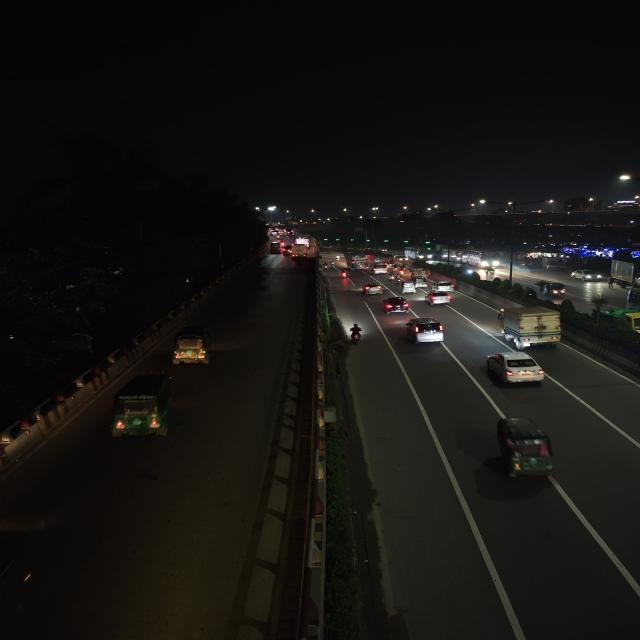bus: (463, 251, 498, 268), (348, 255, 371, 269)
car: (483, 350, 548, 390), (403, 316, 447, 348), (381, 295, 411, 315), (424, 290, 456, 308), (570, 268, 602, 284), (360, 282, 384, 296), (433, 280, 455, 292), (372, 263, 388, 273)
cng: (489, 414, 563, 486), (107, 370, 176, 444), (168, 324, 215, 368), (538, 279, 568, 298), (411, 273, 429, 290), (270, 242, 282, 254)
motorcycle: (344, 323, 366, 346), (338, 268, 350, 280), (387, 272, 399, 280), (322, 262, 331, 270)
truck: (495, 304, 567, 349), (607, 256, 640, 296), (290, 242, 309, 260)
